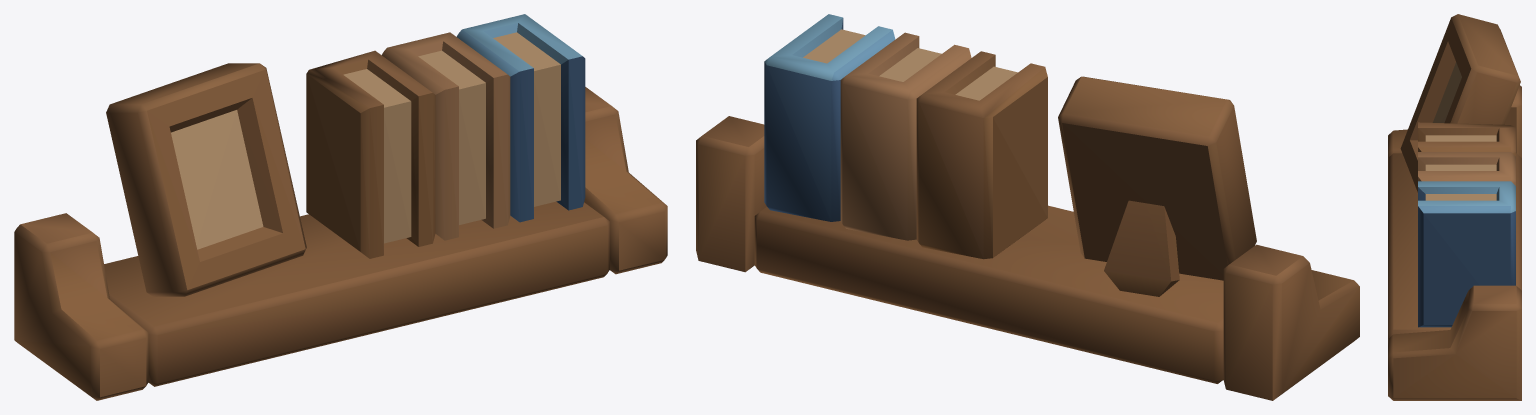
The model's file is shelf.low.caeb0bc5.glb.
3 renders of one model, left to right at view 1: azimuth 30°, elevation 25°; view 2: azimuth 150°, elevation 25°; view 3: azimuth 270°, elevation 25°, orthographic. The views are drawn at different scales.
Parts seen in each view (by area): view 1: shelf; view 2: shelf; view 3: shelf.
Boxes of the visible parts, <box> form: shelf: <box>14,14,667,400</box>; shelf: <box>696,14,1359,400</box>; shelf: <box>1388,14,1521,400</box>.
Bounding box in the file's own units: 1.2 × 0.4905 × 0.3.
